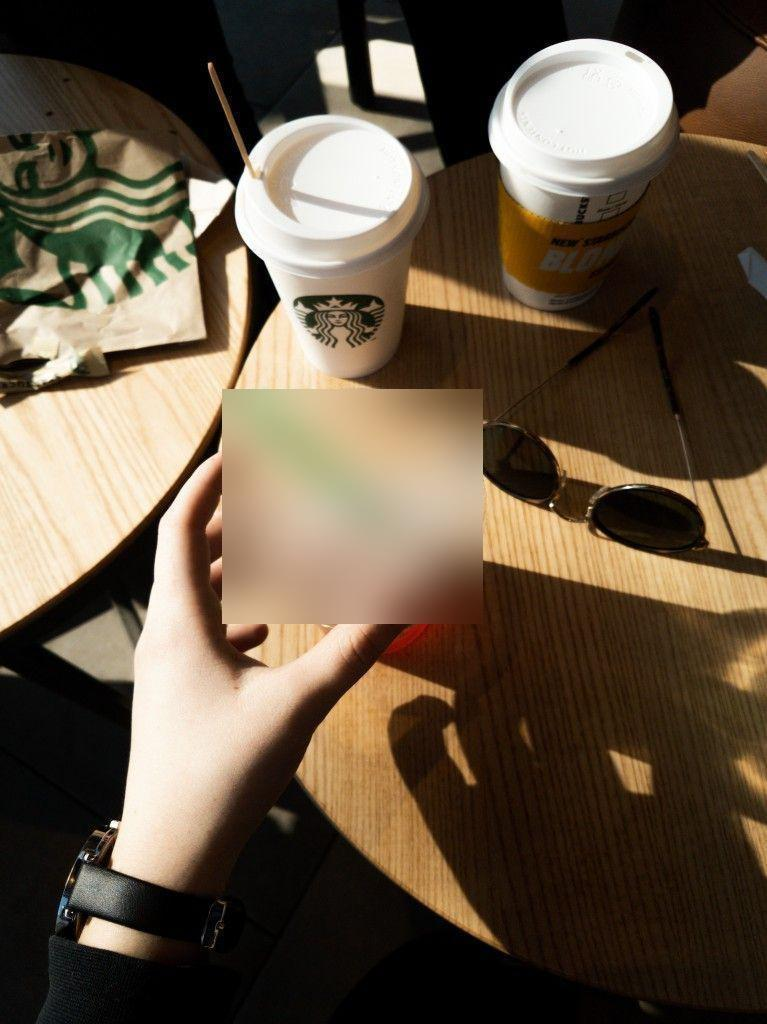cup-disposable: (485, 38, 678, 310), (231, 112, 429, 377)
